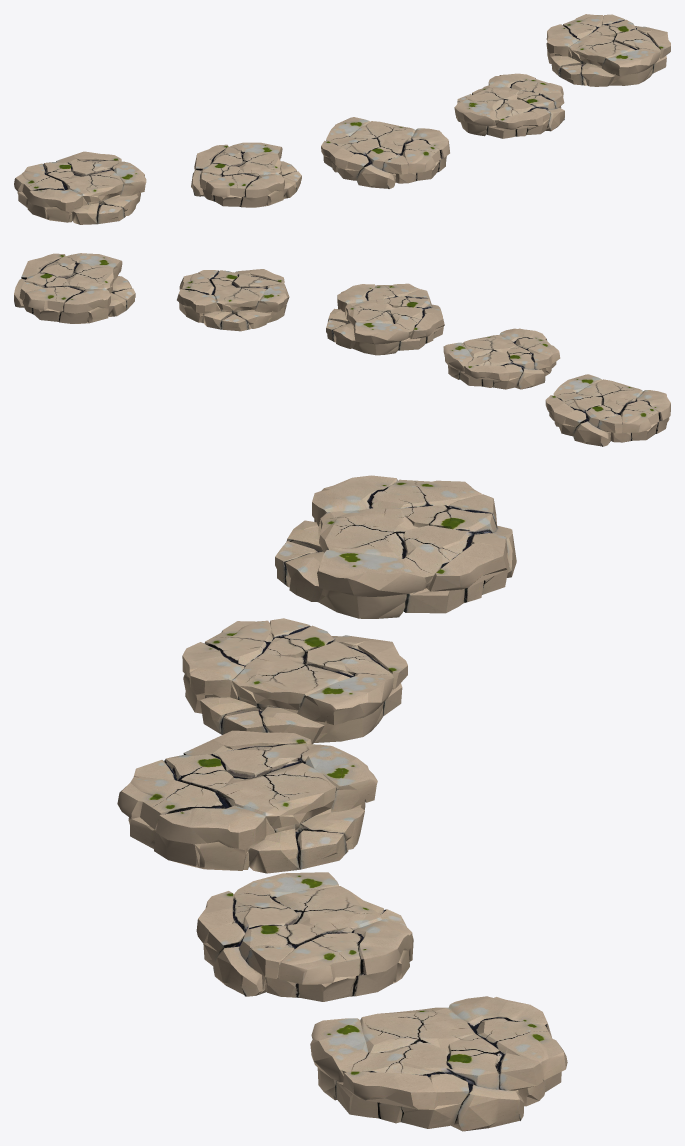
File: SteppingStones.glb
The picture shows the model from 3 angles, top to bottom: view 1: azimuth 30°, elevation 25°; view 2: azimuth 150°, elevation 25°; view 3: azimuth 270°, elevation 25°; orthographic projection. The views are drawn at different scales.
Bounding box in the file's own units: 3.5 × 0.1253 × 1.08.
1 material, 1 textured.
